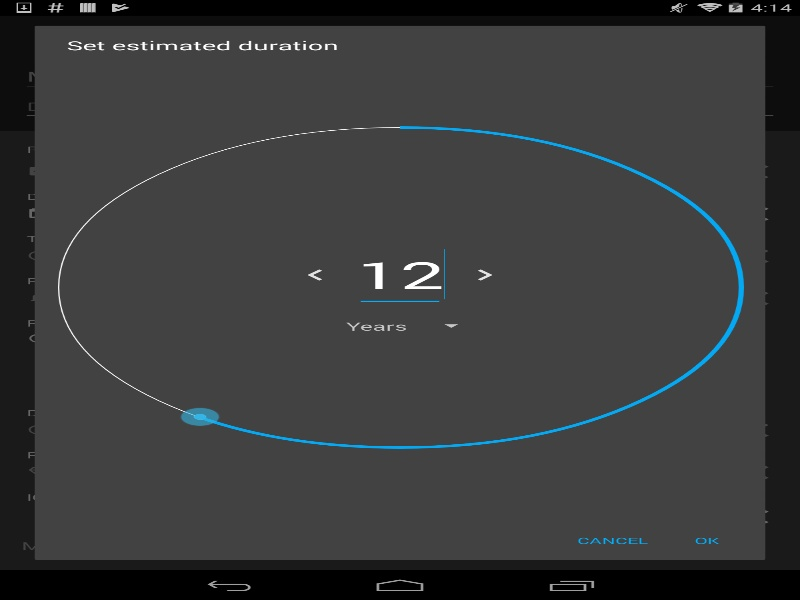Button: (561, 523, 664, 557), (664, 523, 749, 557), (275, 257, 355, 292), (444, 257, 524, 292)
Input: (355, 233, 444, 306)
